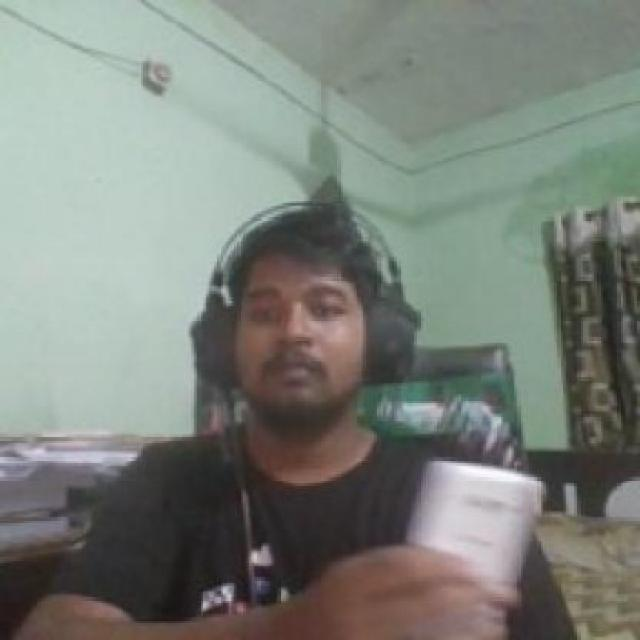Phone: (404, 457, 546, 640)
